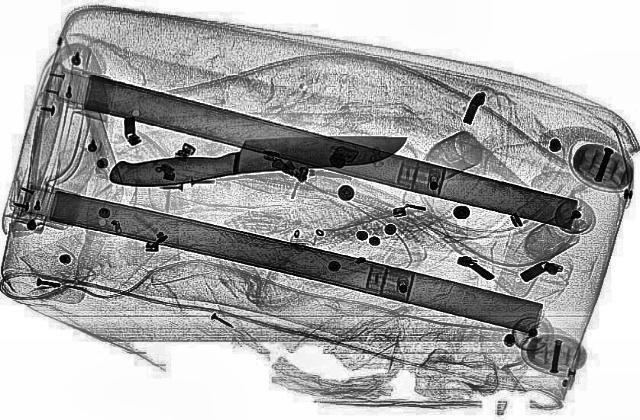Knife: (104, 123, 412, 191)
